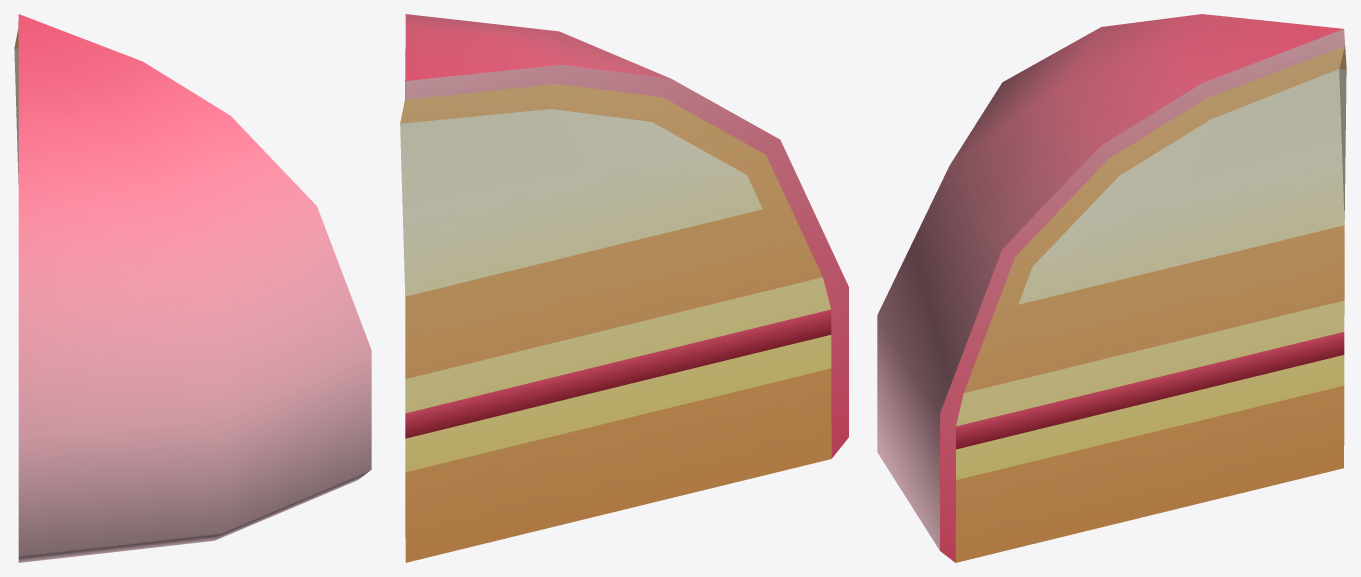
File: m_PrincessCake03_Slice.fbx
3 views of the same model, side by side, from view 1: azimuth 30°, elevation 25°; view 2: azimuth 150°, elevation 25°; view 3: azimuth 270°, elevation 25° (orthographic). The views are drawn at different scales.
Parts seen in each view (by area): view 1: m_PrincessCake03_Slice; view 2: m_PrincessCake03_Slice; view 3: m_PrincessCake03_Slice.
Boxes of the visible parts, x1,y1,x2,y2 form: m_PrincessCake03_Slice: (14, 14, 371, 562); m_PrincessCake03_Slice: (400, 14, 848, 562); m_PrincessCake03_Slice: (877, 14, 1346, 562).
Bounding box in the file's own units: 14 × 14.54 × 14.07.
